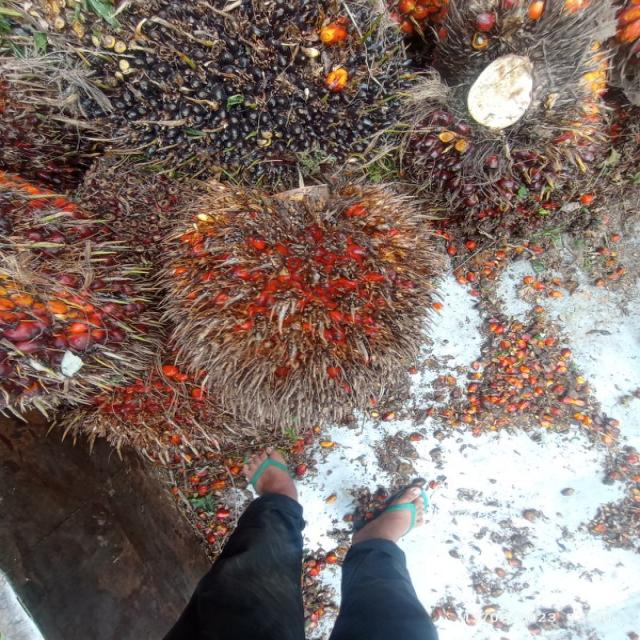fraksi 00: (0, 0, 422, 181)
fraksi 4: (151, 150, 442, 425)
